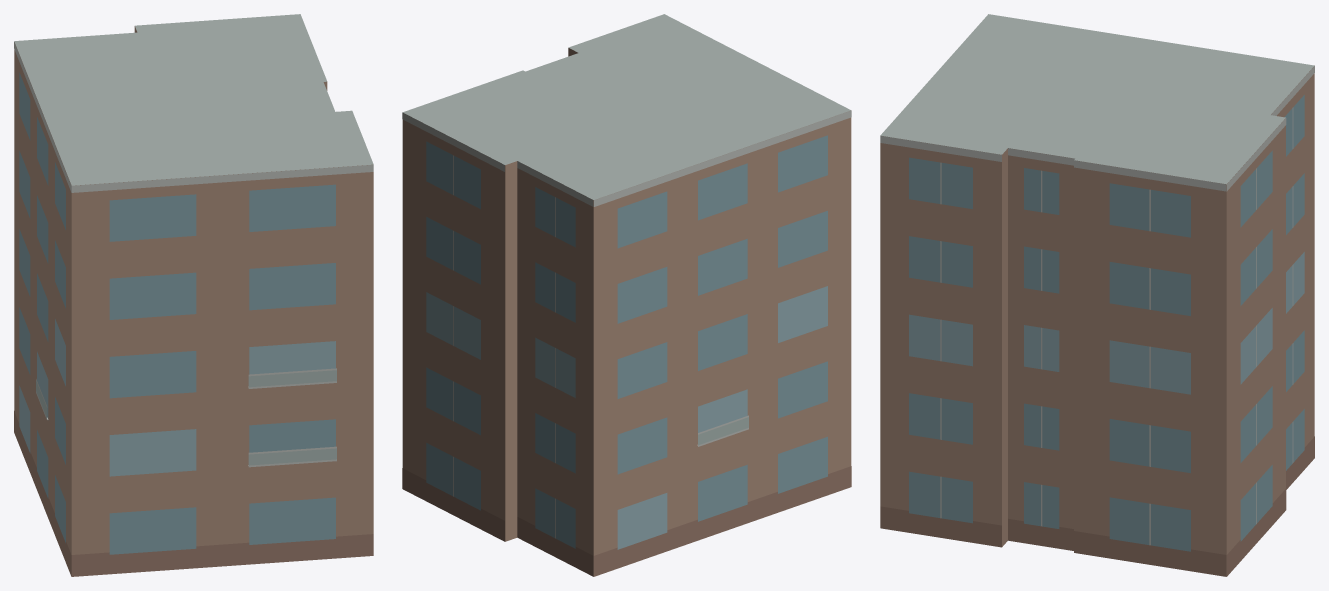
The model's file is survey-upis-32609283.glb.
3 renders of one model, left to right at view 1: azimuth 30°, elevation 25°; view 2: azimuth 150°, elevation 25°; view 3: azimuth 270°, elevation 25°, orthographic. The views are drawn at different scales.
Visible parts, largest first — view 1: survey-upis-32609283.tmp; view 2: survey-upis-32609283.tmp; view 3: survey-upis-32609283.tmp.
Boxes of the visible parts, bbox=[...] form: survey-upis-32609283.tmp: bbox=[14, 14, 373, 576]; survey-upis-32609283.tmp: bbox=[402, 14, 851, 576]; survey-upis-32609283.tmp: bbox=[880, 14, 1314, 576].
Size of the model in its own units: 12.19 by 13.1 by 13.15.
